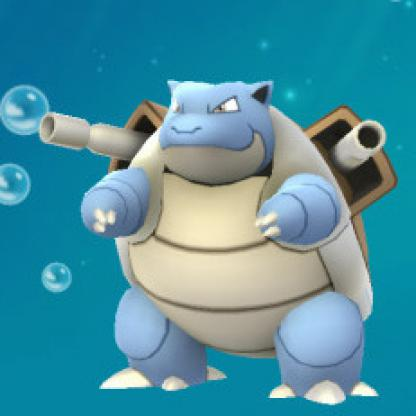Blastoise: (1, 52, 383, 416)
